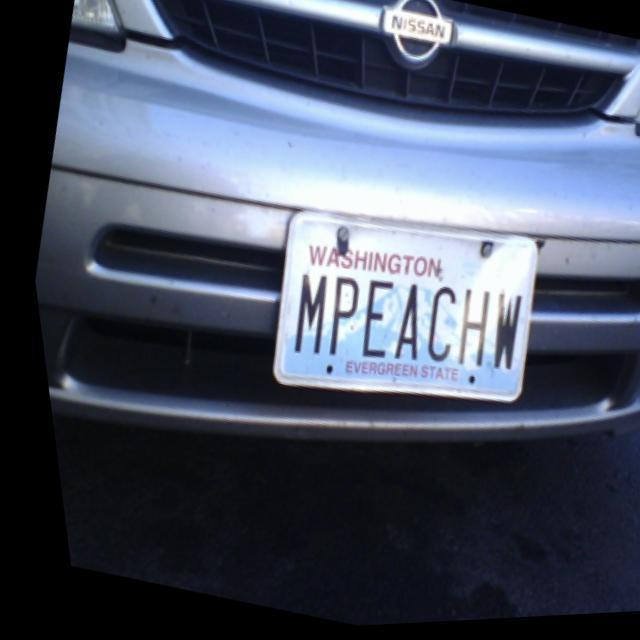license_plate: (248, 200, 546, 414)
